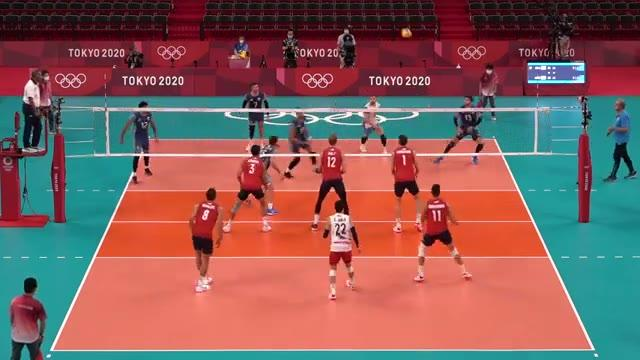ball: (401, 27, 414, 39)
